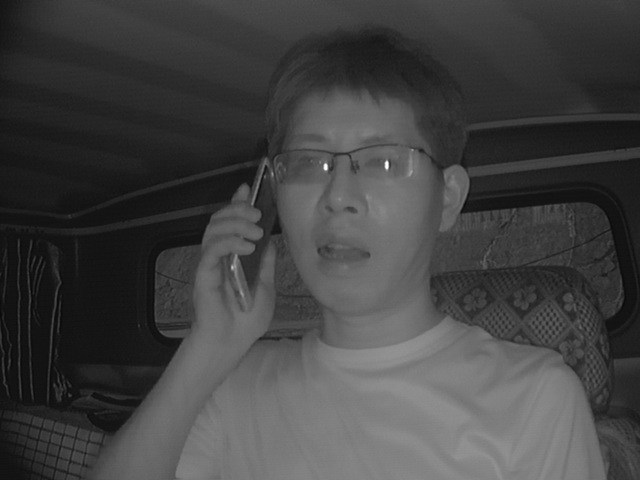hand: (184, 179, 285, 339)
